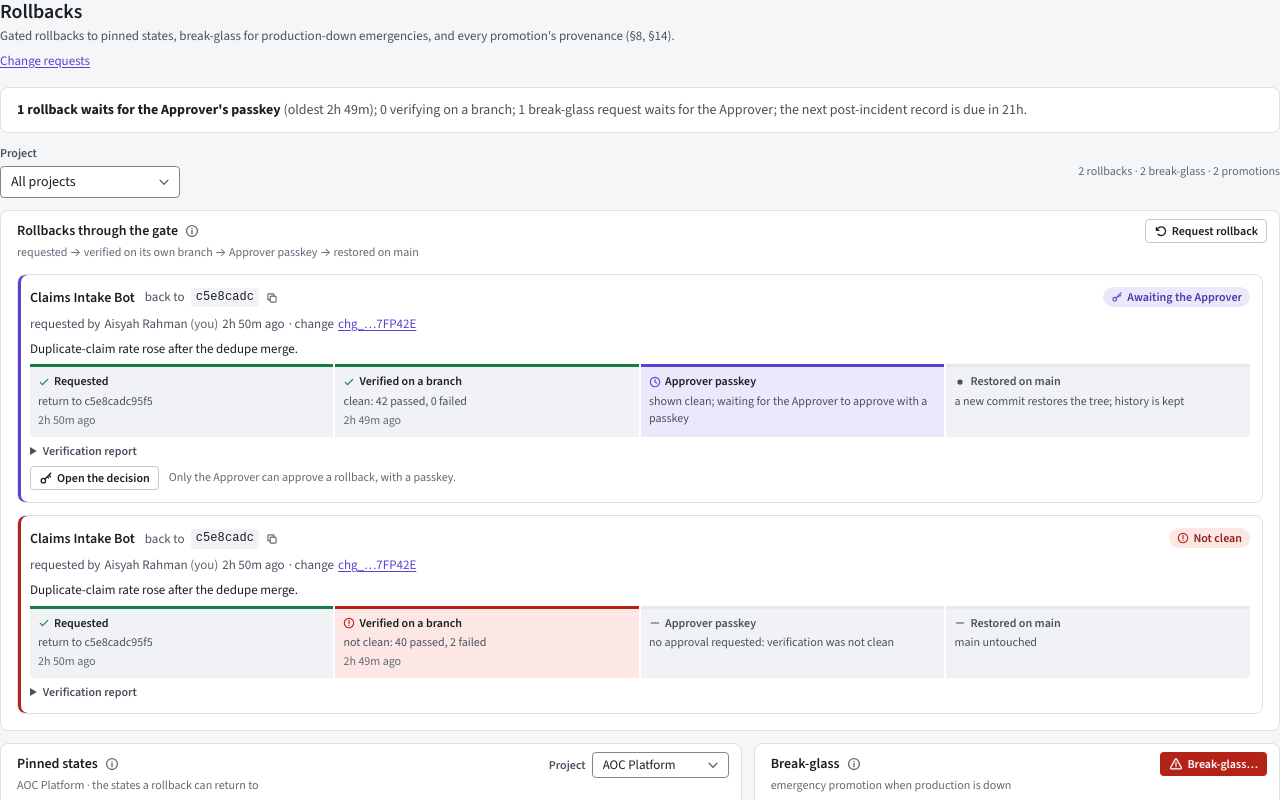
it: Rollbacks › does not show a Builder the single-Approver warning
Click the button "Break-glass…".
click(1214, 764)  # box [1160,752,1267,776]
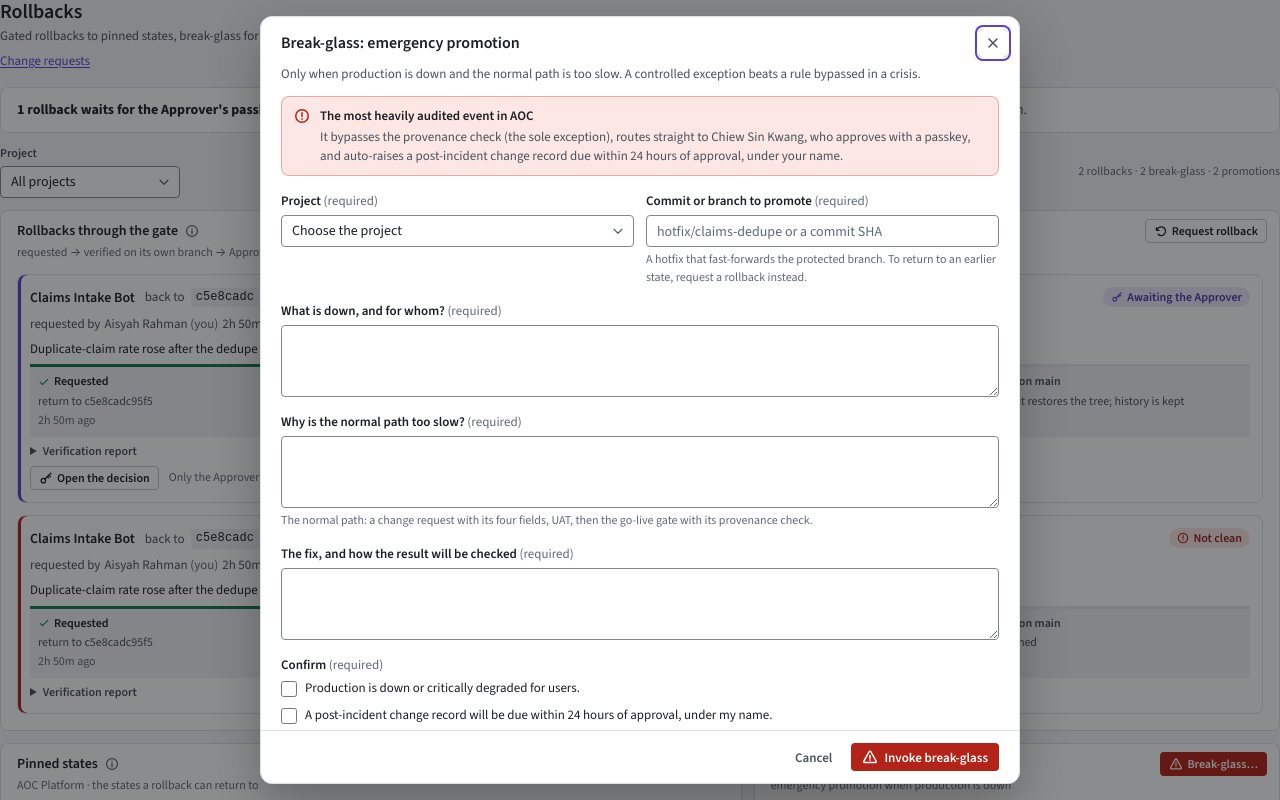
Now the text "routes straight to Chiew Sin Kwang" is shown, box [320,128,986,165]
